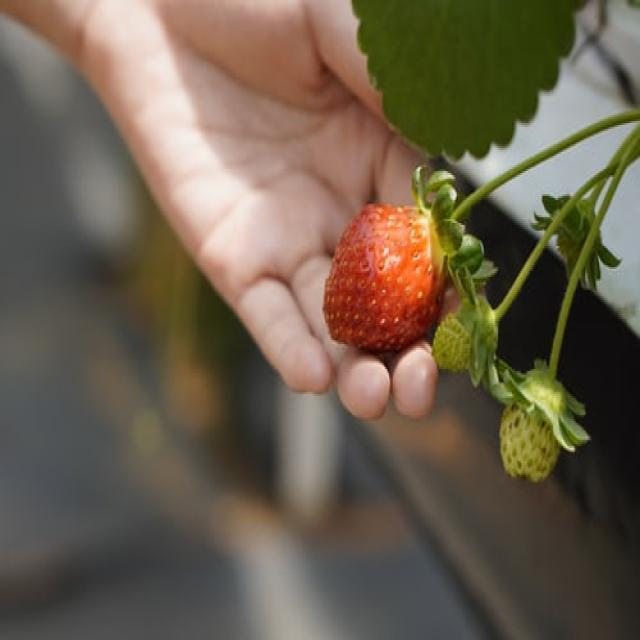strawberry: (323, 202, 444, 350), (499, 387, 564, 479), (432, 298, 498, 370)
